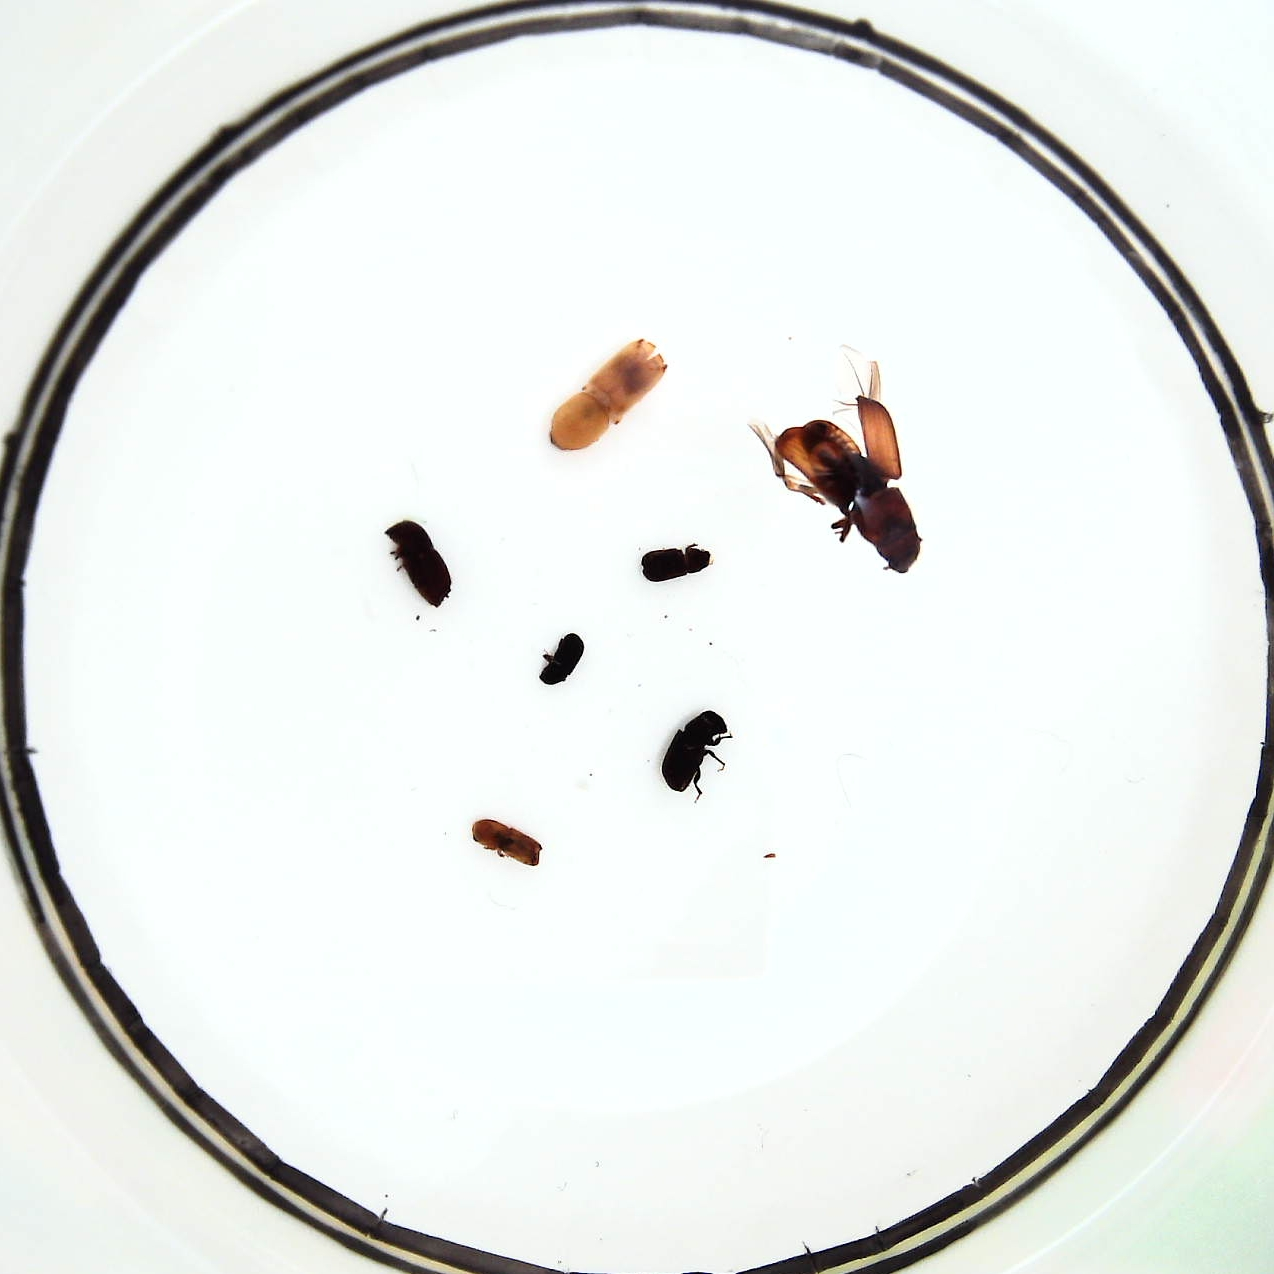Boerner: (544, 338, 666, 453)
Leconte: (761, 388, 922, 570)
Linnaeus: (386, 518, 452, 609)
acuminatus: (466, 815, 549, 870)
armandi: (661, 706, 724, 796)
coleoptera: (637, 542, 710, 577), (539, 631, 577, 684)
